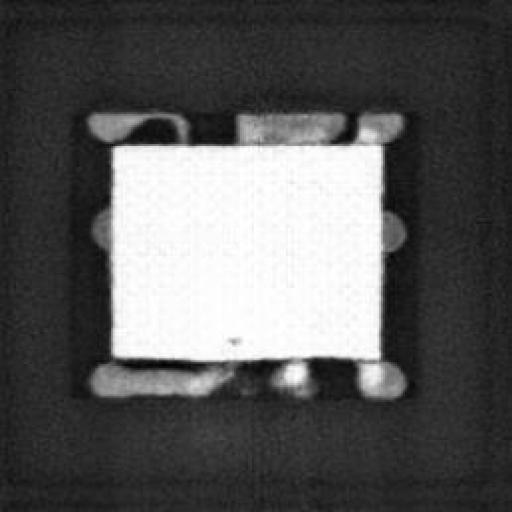DIE_INK: (220, 328, 242, 345)
